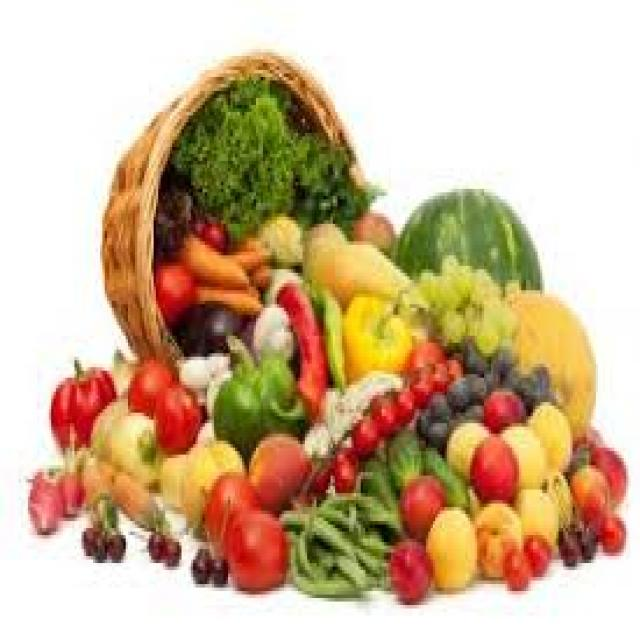organic waste: (168, 77, 374, 241), (396, 182, 540, 287), (502, 287, 596, 430), (212, 336, 300, 458), (302, 364, 405, 468), (417, 252, 519, 350), (156, 434, 244, 521), (268, 280, 321, 420), (337, 283, 412, 374), (77, 448, 163, 524), (302, 238, 412, 297), (49, 357, 112, 448), (244, 434, 310, 514), (291, 489, 358, 566), (170, 220, 247, 284), (223, 504, 284, 584), (424, 500, 474, 591), (200, 472, 256, 549), (110, 409, 166, 486), (472, 496, 522, 580), (151, 381, 205, 455), (147, 248, 196, 322), (274, 507, 354, 549), (468, 437, 516, 504), (242, 301, 293, 364), (526, 399, 570, 472), (126, 353, 179, 413), (396, 472, 442, 539), (319, 276, 347, 381), (88, 392, 128, 465), (442, 420, 489, 482), (388, 532, 431, 598), (256, 210, 303, 269), (500, 420, 542, 486), (382, 420, 421, 490), (421, 441, 461, 507), (510, 483, 554, 542), (566, 462, 608, 521), (198, 297, 244, 350), (26, 468, 62, 532), (152, 175, 188, 238), (360, 454, 396, 510), (289, 570, 384, 591), (188, 280, 258, 308), (542, 462, 570, 532), (589, 444, 624, 500), (261, 259, 298, 308), (349, 206, 391, 248), (482, 384, 524, 426), (221, 238, 270, 273), (198, 367, 235, 413), (482, 388, 521, 430), (188, 206, 226, 248), (172, 308, 205, 353), (303, 213, 349, 245), (280, 504, 352, 524), (368, 388, 402, 430), (565, 434, 596, 479), (58, 462, 84, 514), (179, 353, 210, 395), (349, 409, 377, 455), (356, 496, 400, 524), (403, 336, 442, 367), (112, 346, 137, 392), (331, 444, 356, 486), (459, 339, 491, 371), (88, 493, 114, 532), (514, 367, 538, 409), (237, 304, 256, 357), (356, 521, 384, 556), (440, 304, 463, 346), (519, 535, 549, 567), (503, 546, 528, 584), (572, 518, 596, 556), (493, 346, 519, 381), (405, 360, 426, 402), (426, 353, 447, 395), (472, 322, 500, 353), (444, 370, 468, 406), (556, 524, 580, 560), (245, 259, 272, 290), (493, 304, 519, 336), (428, 392, 454, 423), (104, 528, 126, 563), (531, 356, 549, 398), (598, 514, 621, 546), (307, 458, 328, 493), (442, 346, 463, 381), (393, 378, 410, 420), (205, 353, 230, 381), (433, 276, 458, 304), (468, 266, 486, 304), (426, 420, 447, 451), (354, 549, 382, 570), (191, 413, 209, 444), (79, 521, 96, 553), (468, 367, 484, 399), (454, 262, 470, 294), (163, 535, 181, 563), (191, 549, 209, 577), (212, 553, 226, 584), (419, 266, 433, 297), (458, 402, 482, 420), (149, 528, 163, 556), (414, 402, 428, 430), (482, 357, 498, 381), (93, 528, 105, 553), (486, 284, 501, 304), (438, 255, 452, 273)
